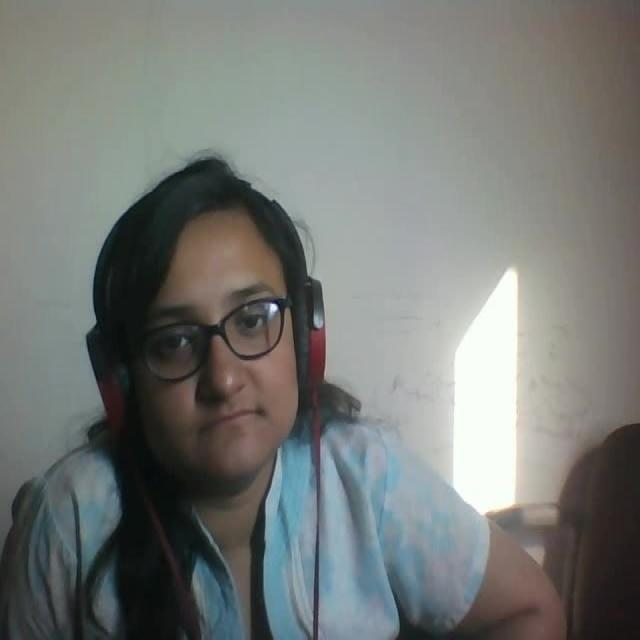Bored: (57, 134, 370, 533)
